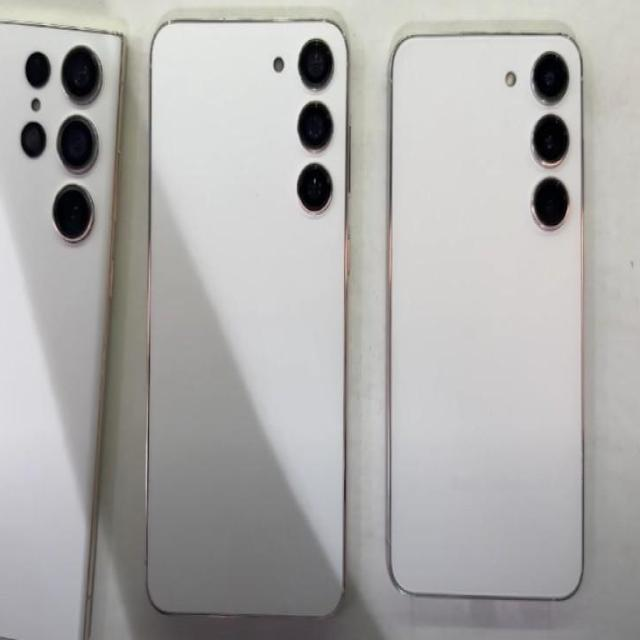mobile: (139, 17, 345, 624), (385, 30, 585, 599)
